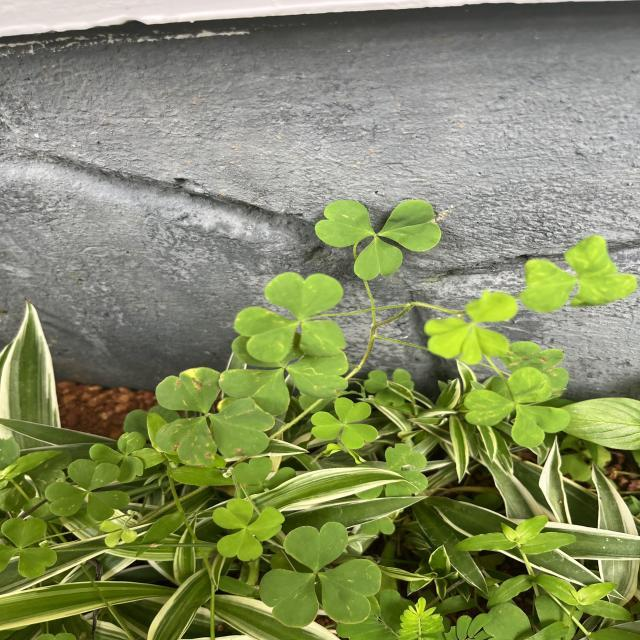Oxalis corniculata: (258, 520, 383, 628), (153, 366, 276, 468), (313, 198, 446, 281), (233, 270, 349, 363), (462, 366, 571, 448), (44, 457, 132, 521), (212, 497, 286, 562), (0, 516, 59, 579), (310, 396, 380, 449)
